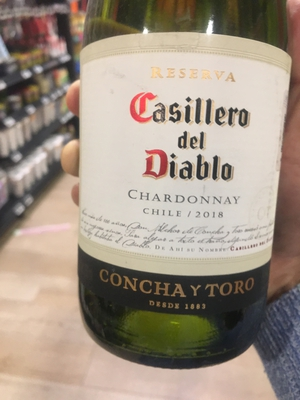casillero del diablo chardonnay: (74, 6, 297, 366)
